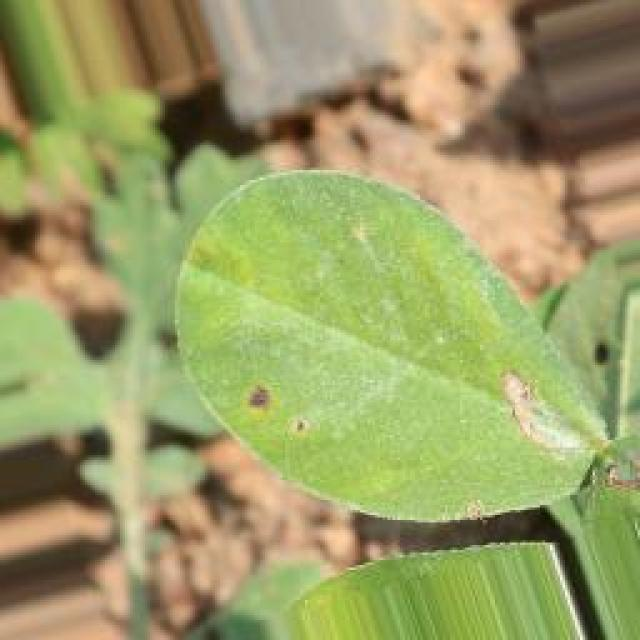Early_leaf_spot: (468, 331, 640, 511), (234, 351, 328, 465)
